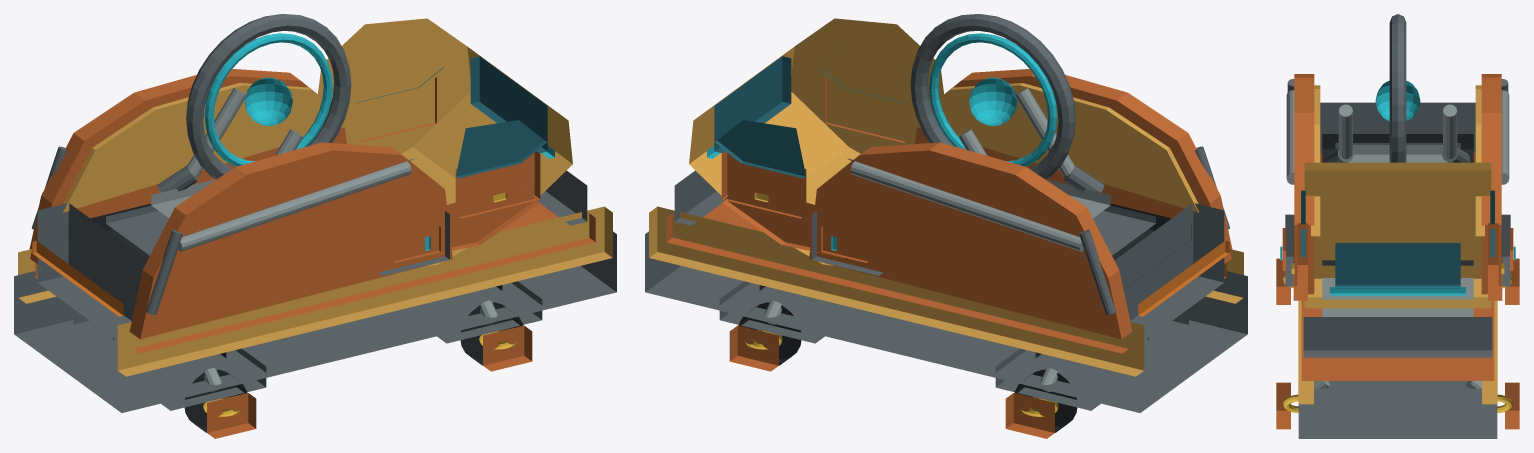
File: resonance_mining_transport_cart_v1_fallback.glb
3 views of the same model, side by side, from view 1: azimuth 30°, elevation 25°; view 2: azimuth 150°, elevation 25°; view 3: azimuth 270°, elevation 25° (orthographic). The views are drawn at different scales.
Parts seen in each view (by area): view 1: RES_MiningTransportCart_V1_Fallback; view 2: RES_MiningTransportCart_V1_Fallback; view 3: RES_MiningTransportCart_V1_Fallback.
Part boxes in pixels (x1,y1,x2,y2): RES_MiningTransportCart_V1_Fallback: (14,14,616,438); RES_MiningTransportCart_V1_Fallback: (645,14,1247,438); RES_MiningTransportCart_V1_Fallback: (1276,14,1519,438).
Bounding box in the file's own units: 8.9 × 6.11 × 4.11.
